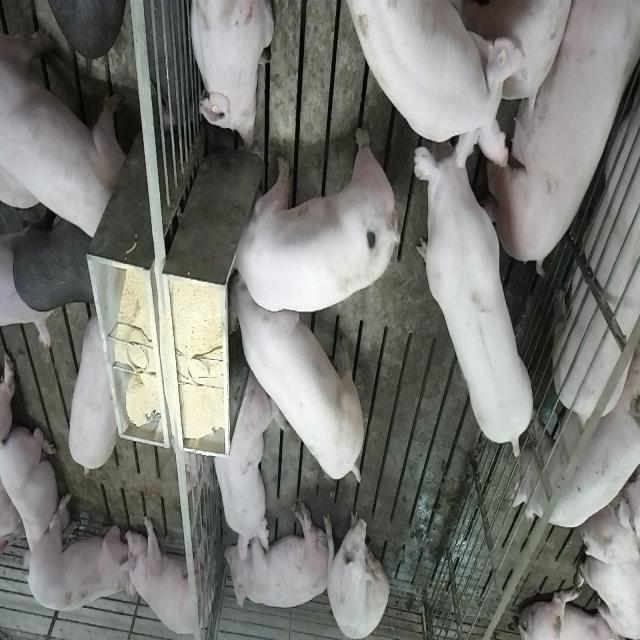Feeding: (222, 123, 394, 314), (230, 276, 368, 488)
Lateral_lying: (486, 1, 636, 274), (223, 500, 332, 612)
Sitting: (324, 499, 389, 638)
Standing: (411, 119, 535, 456), (551, 19, 640, 430), (346, 0, 526, 164), (1, 18, 126, 246), (517, 355, 640, 533), (26, 493, 132, 613), (121, 510, 210, 638), (64, 309, 119, 479), (12, 208, 96, 313)
Sternal_lying: (209, 374, 282, 562), (188, 0, 274, 151), (2, 426, 59, 576)
